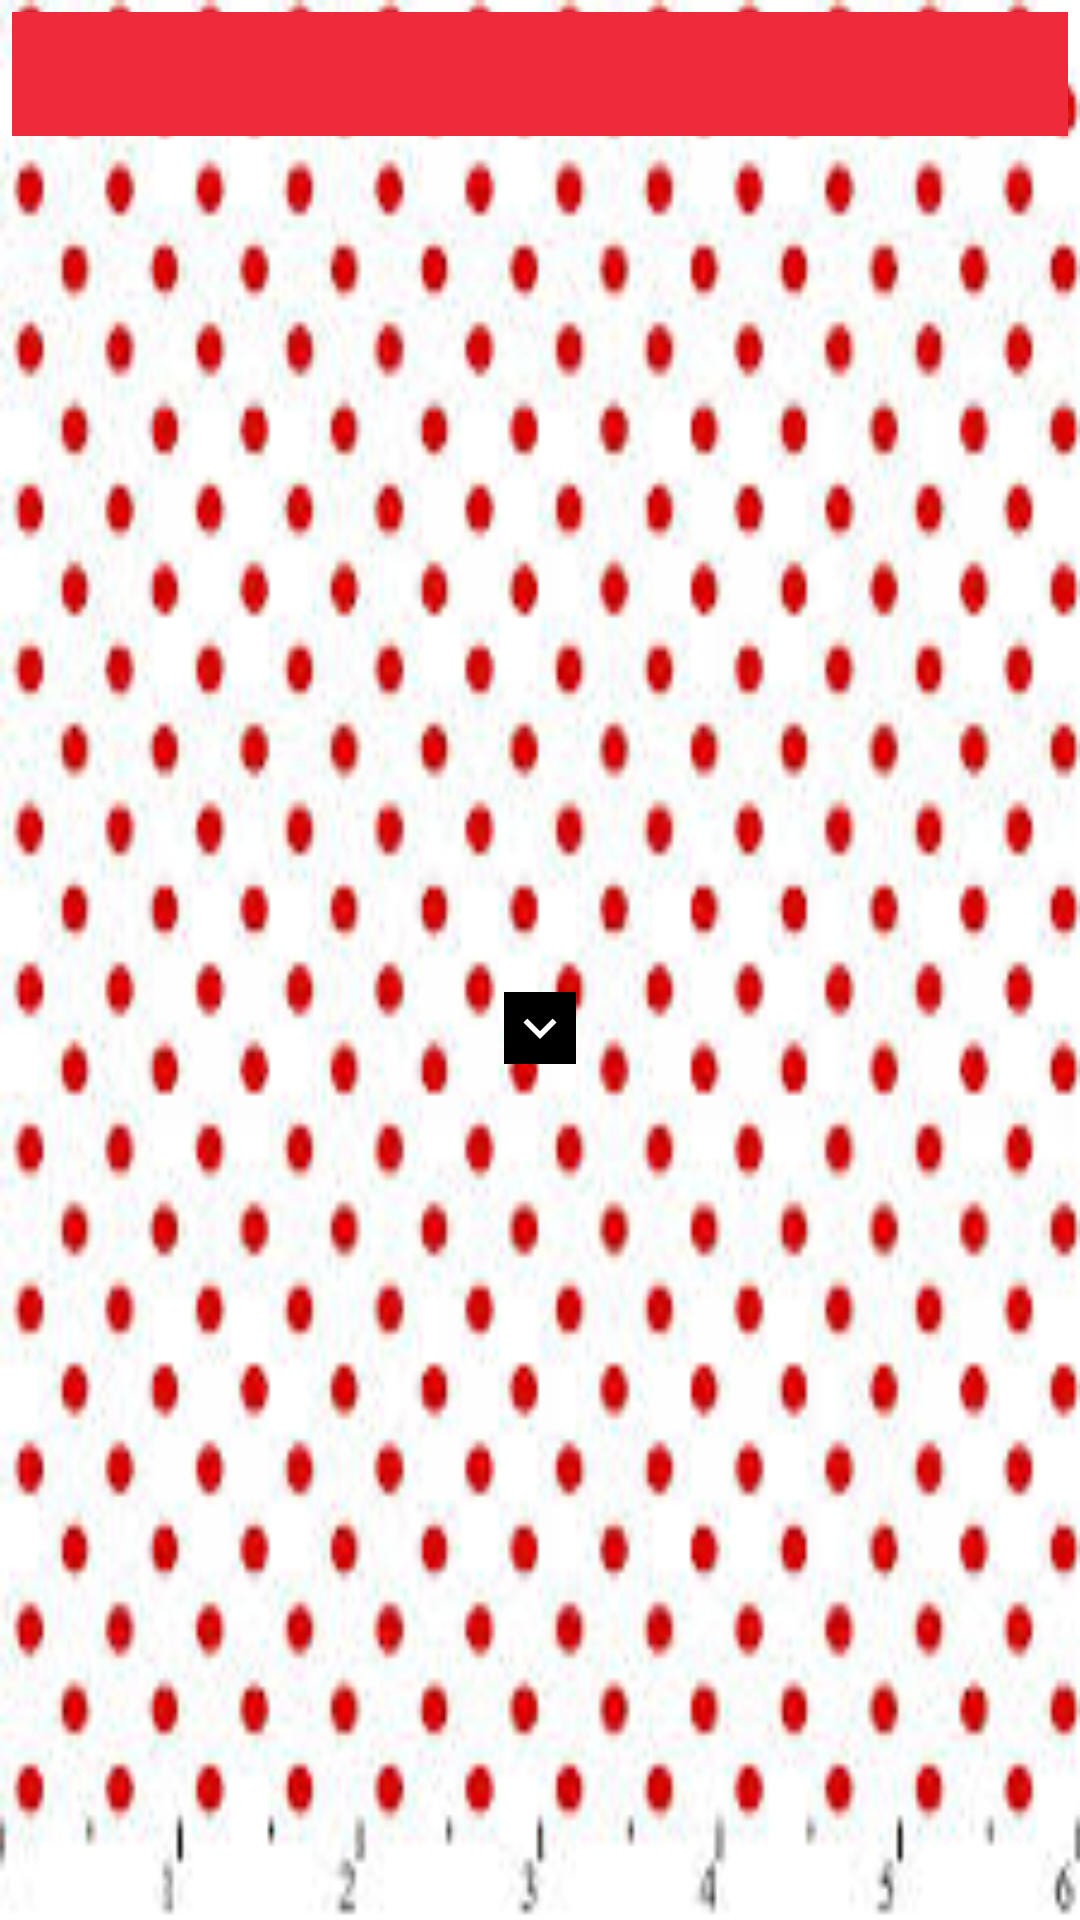

Named icons in this screenshot (1080 x 1920) and their centers, point (x, y):
more: point (540, 1028)
